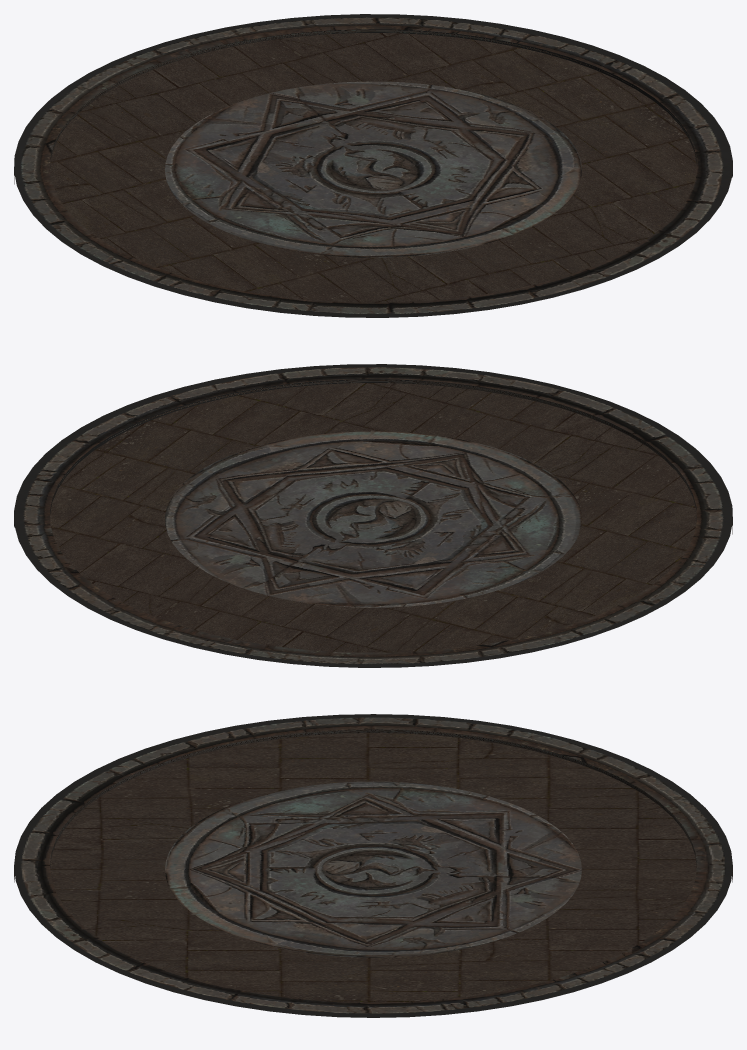
Rendered from Stage_Floor04.gltf.
3 views of the same model, one above another, from view 1: azimuth 30°, elevation 25°; view 2: azimuth 150°, elevation 25°; view 3: azimuth 270°, elevation 25° (orthographic).
Parts seen in each view (by area): view 1: Stage_Floor_Tile, Stage_Center_Circle, Stage_Outer_Trim; view 2: Stage_Floor_Tile, Stage_Center_Circle, Stage_Outer_Trim; view 3: Stage_Floor_Tile, Stage_Center_Circle, Stage_Outer_Trim.
Part boxes in pixels (x1,y1,x2,y2): Stage_Floor_Tile: [50, 33, 696, 302]; Stage_Center_Circle: [165, 81, 581, 257]; Stage_Outer_Trim: [14, 14, 732, 317]; Stage_Floor_Tile: [50, 383, 696, 652]; Stage_Center_Circle: [165, 431, 581, 607]; Stage_Outer_Trim: [14, 364, 732, 667]; Stage_Floor_Tile: [50, 733, 696, 1002]; Stage_Center_Circle: [165, 781, 581, 957]; Stage_Outer_Trim: [14, 714, 732, 1017].
Bounding box in the file's own units: 2 × 0.055 × 2.
3 materials, 3 textured.
